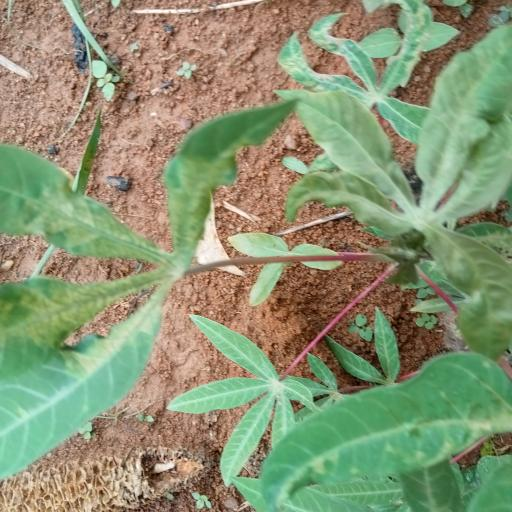Cassava_Mosaic: (0, 99, 283, 461)
